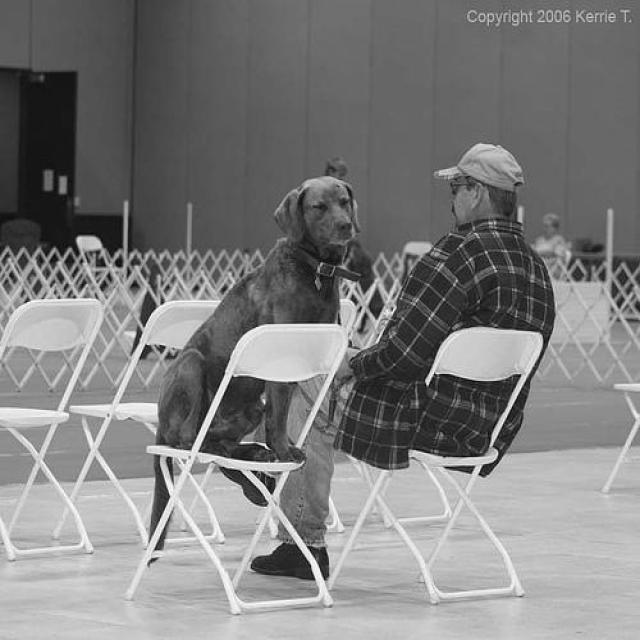sitting: (147, 166, 363, 474)
